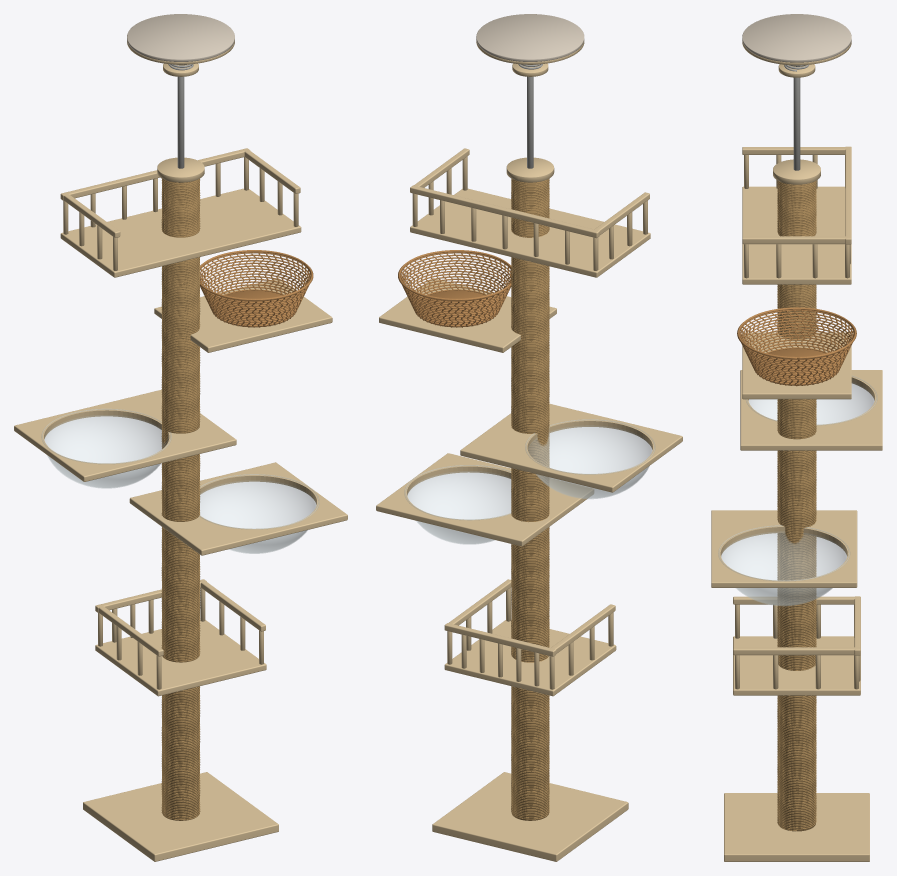
File: cat-tower-v1.glb
3 views of the same model, side by side, from view 1: azimuth 30°, elevation 25°; view 2: azimuth 150°, elevation 25°; view 3: azimuth 270°, elevation 25° (orthographic).
Parts seen in each view (by area): view 1: sisal-column, upper-platform, base, left-bowl-board, right-bowl-board, basket-weave, left-acrylic-bowl, lower-platform, right-acrylic-bowl, ceiling-pad, sisal-coils-0, sisal-coils-4 (+12 smaller); view 2: sisal-column, base, upper-platform, left-bowl-board, right-bowl-board, basket-weave, left-acrylic-bowl, right-acrylic-bowl, lower-platform, ceiling-pad, sisal-coils-0, sisal-coils-4 (+13 smaller); view 3: sisal-column, base, upper-platform, right-bowl-board, right-acrylic-bowl, basket-weave, left-bowl-board, lower-platform, ceiling-pad, sisal-coils-0, basket-platform, sisal-coils-3 (+18 smaller).
Boxes of the visible parts, x1,y1,x2,y2 form: sisal-column: [162, 179, 199, 820]; upper-platform: [60, 188, 301, 277]; base: [83, 772, 278, 861]; left-bowl-board: [14, 389, 236, 481]; right-bowl-board: [129, 462, 347, 555]; basket-weave: [200, 252, 310, 327]; left-acrylic-bowl: [44, 415, 168, 488]; lower-platform: [95, 620, 266, 696]; right-acrylic-bowl: [200, 480, 316, 553]; ceiling-pad: [127, 14, 234, 61]; sisal-coils-0: [161, 705, 200, 820]; sisal-coils-4: [161, 275, 200, 390]; sisal-column: [512, 179, 548, 820]; base: [432, 772, 628, 861]; upper-platform: [410, 188, 650, 277]; left-bowl-board: [460, 404, 682, 492]; right-bowl-board: [376, 453, 593, 546]; basket-weave: [400, 252, 511, 327]; left-acrylic-bowl: [528, 425, 652, 498]; right-acrylic-bowl: [406, 471, 510, 544]; lower-platform: [444, 620, 616, 696]; ceiling-pad: [476, 14, 584, 61]; sisal-coils-0: [511, 705, 549, 819]; sisal-coils-4: [511, 276, 549, 391]; sisal-column: [778, 181, 815, 831]; base: [724, 793, 869, 861]; upper-platform: [742, 186, 851, 284]; right-bowl-board: [711, 510, 857, 587]; right-acrylic-bowl: [721, 531, 847, 605]; basket-weave: [740, 309, 853, 386]; left-bowl-board: [740, 370, 882, 450]; lower-platform: [733, 636, 860, 695]; ceiling-pad: [742, 14, 851, 62]; sisal-coils-0: [777, 714, 816, 831]; basket-platform: [742, 332, 851, 399]; sisal-coils-3: [777, 399, 816, 505].
Size of the model in its own units: 0.8 by 2.4 by 0.47.
